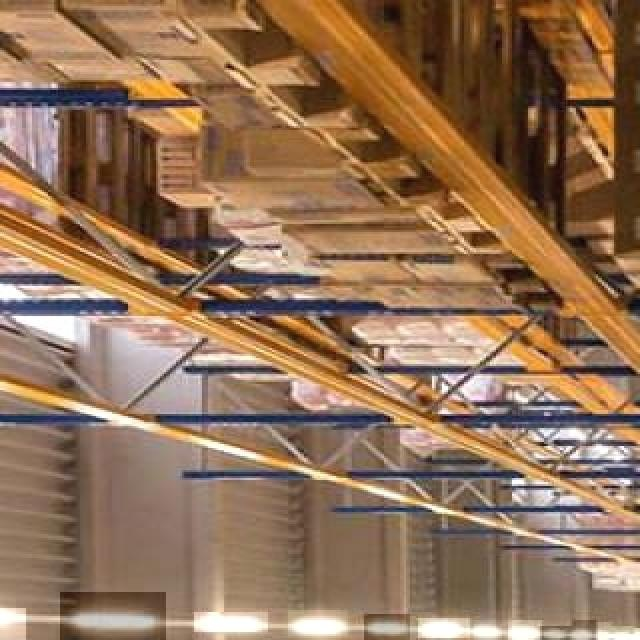fluorescent tube: (54, 598, 158, 640), (185, 613, 265, 640), (280, 610, 344, 640), (364, 613, 411, 638), (0, 600, 28, 640), (418, 616, 464, 640), (460, 622, 496, 640), (502, 626, 540, 640), (538, 626, 564, 640), (570, 628, 594, 640)
